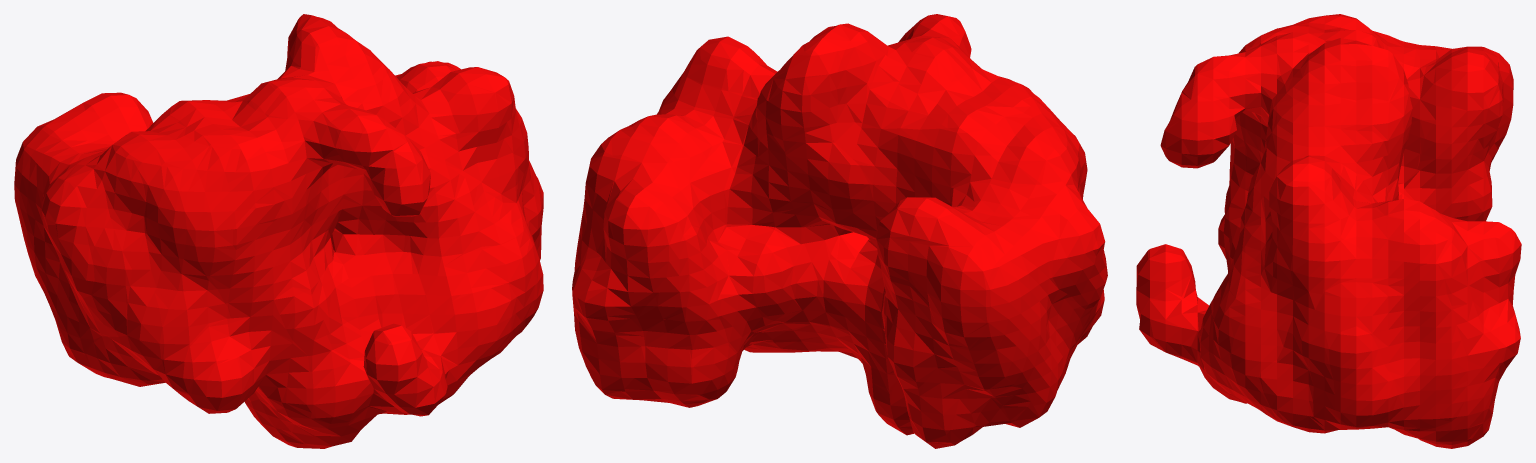
File: 14_3_3_protein_zeta_delta_Prot_coarse.dae
The picture shows the model from 3 angles, left to right: view 1: azimuth 30°, elevation 25°; view 2: azimuth 150°, elevation 25°; view 3: azimuth 270°, elevation 25°; orthographic projection. The views are drawn at different scales.
Parts seen in each view (by area): view 1: 14_3_3_protein_zeta_delta_Prot; view 2: 14_3_3_protein_zeta_delta_Prot; view 3: 14_3_3_protein_zeta_delta_Prot.
Part boxes in pixels (x1,y1,x2,y2): 14_3_3_protein_zeta_delta_Prot: [14, 14, 543, 448]; 14_3_3_protein_zeta_delta_Prot: [572, 14, 1107, 448]; 14_3_3_protein_zeta_delta_Prot: [1136, 14, 1521, 448].
Size of the model in its own units: 82.82 by 63.84 by 59.67.
